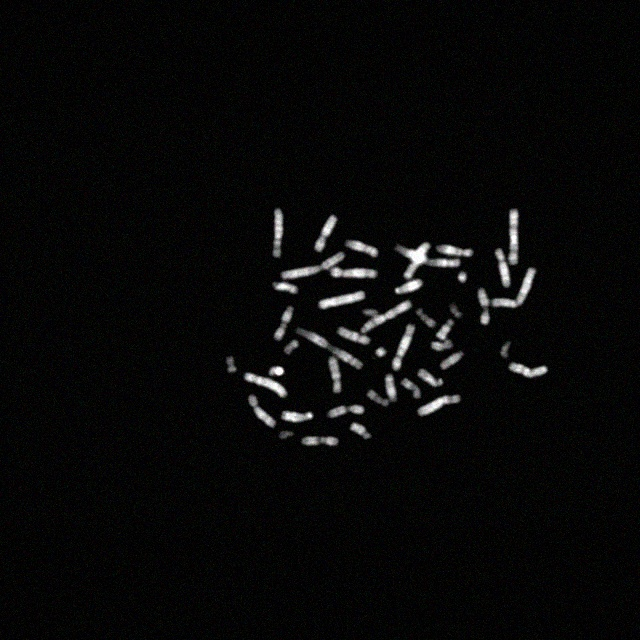chromosome: (294, 328, 362, 370), (492, 266, 536, 308), (361, 299, 412, 333), (282, 252, 344, 278), (394, 246, 460, 268), (244, 374, 288, 398), (393, 324, 415, 371), (418, 394, 460, 418), (318, 290, 366, 310), (404, 242, 428, 280), (248, 396, 276, 428), (314, 214, 336, 254), (274, 306, 294, 340), (508, 364, 548, 381), (507, 208, 519, 264), (331, 266, 377, 280), (495, 248, 511, 286), (272, 210, 284, 258), (346, 239, 378, 257), (337, 327, 369, 345), (328, 357, 342, 395), (416, 370, 444, 388), (328, 404, 364, 418), (436, 244, 474, 256), (478, 288, 490, 324), (440, 352, 464, 370), (300, 437, 338, 448), (283, 410, 312, 424), (416, 308, 436, 328), (351, 422, 372, 441), (436, 318, 454, 340), (272, 280, 300, 294), (366, 389, 389, 406), (401, 378, 419, 399), (396, 280, 422, 294), (385, 375, 397, 401), (283, 339, 299, 355), (449, 304, 465, 318), (432, 341, 452, 352), (226, 354, 236, 376), (500, 342, 512, 360), (372, 346, 388, 358), (268, 366, 284, 376), (457, 270, 467, 282)
